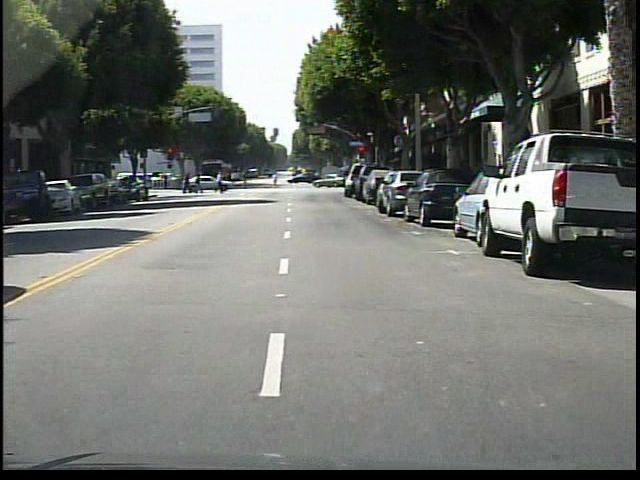person: (214, 166, 234, 196)
